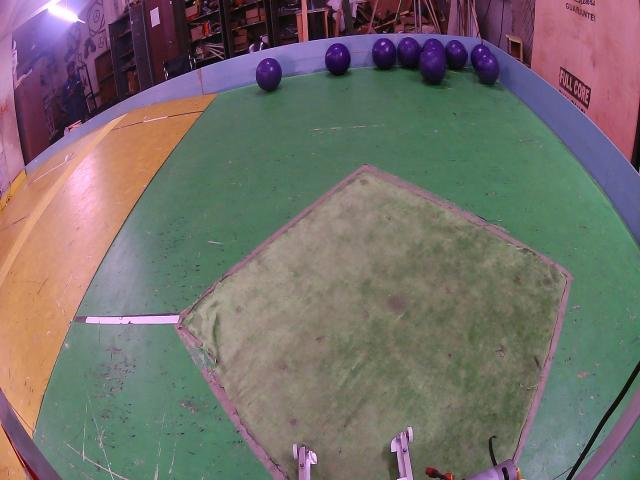jambhalya: (420, 46, 447, 84), (256, 58, 281, 92), (325, 44, 351, 75), (476, 55, 500, 86), (373, 38, 396, 70), (397, 37, 420, 68), (446, 40, 467, 70), (470, 45, 490, 71), (421, 38, 445, 52)
